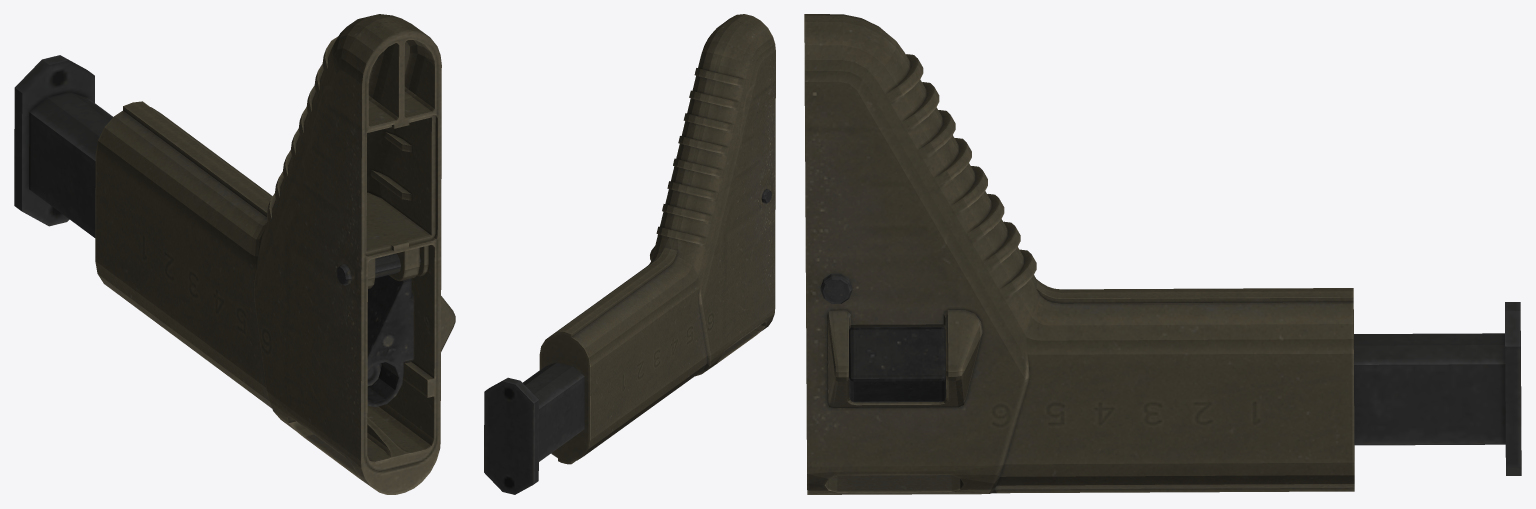
The picture shows the model from 3 angles, left to right: view 1: azimuth 30°, elevation 25°; view 2: azimuth 150°, elevation 25°; view 3: azimuth 270°, elevation 25°; orthographic projection. The views are drawn at different scales.
Visible parts, largest first — view 1: TW_61825d136ef05c2ce828f1cc_PZ_Import; view 2: TW_61825d136ef05c2ce828f1cc_PZ_Import; view 3: TW_61825d136ef05c2ce828f1cc_PZ_Import.
Part boxes in pixels (box(x1,y1,x2,y2)): TW_61825d136ef05c2ce828f1cc_PZ_Import: box(14, 14, 455, 494); TW_61825d136ef05c2ce828f1cc_PZ_Import: box(484, 14, 775, 494); TW_61825d136ef05c2ce828f1cc_PZ_Import: box(804, 14, 1521, 494).
Size of the model in its own units: 0.0208 by 0.11 by 0.0798.
1 material, 1 textured.
